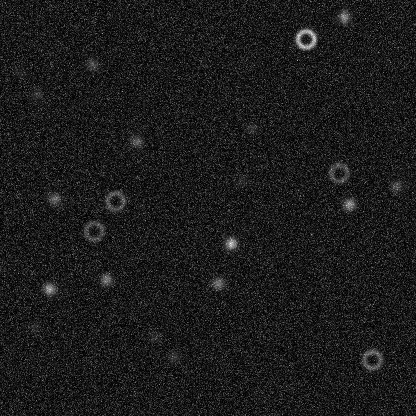Ring: (81, 218, 105, 242), (360, 347, 384, 371), (326, 160, 350, 184), (293, 26, 317, 50), (103, 188, 127, 212)
Spot: (340, 196, 356, 212), (209, 275, 225, 291), (335, 8, 351, 24), (222, 235, 238, 251), (83, 56, 99, 72), (234, 172, 250, 188), (128, 133, 144, 149), (146, 328, 162, 344), (28, 85, 44, 101), (243, 120, 259, 136), (41, 280, 57, 296), (46, 190, 62, 206), (26, 319, 42, 335), (388, 178, 404, 194), (11, 64, 27, 80), (165, 349, 181, 365), (98, 271, 114, 287)
